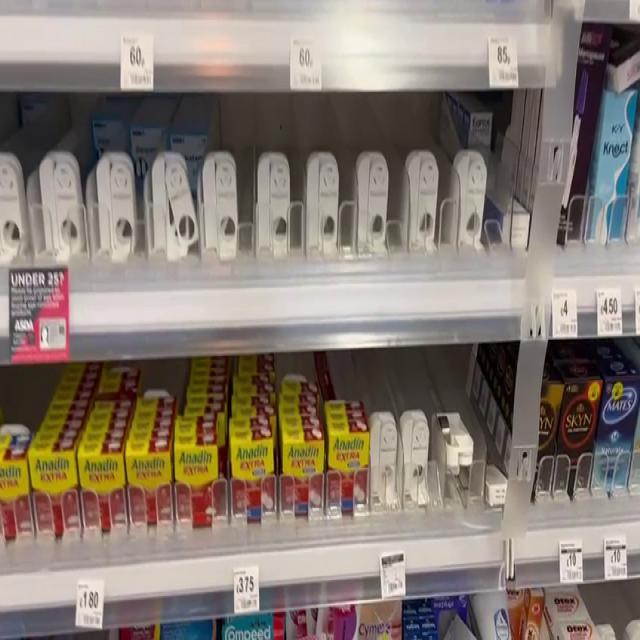Other: (586, 80, 640, 252), (164, 430, 236, 533), (220, 423, 288, 532), (23, 445, 90, 553), (74, 443, 132, 555), (559, 370, 607, 505), (275, 428, 337, 527), (322, 428, 381, 522), (122, 442, 177, 538), (599, 358, 635, 502)
